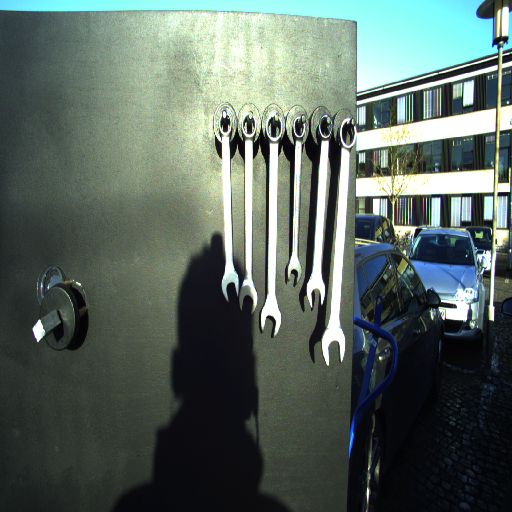bottom: (319, 327, 346, 367), (259, 304, 283, 338), (238, 284, 257, 316), (220, 273, 240, 303), (306, 279, 326, 309), (285, 259, 302, 285)
top: (338, 116, 357, 151), (265, 113, 283, 145), (240, 113, 258, 142), (317, 114, 333, 144), (216, 113, 235, 138), (291, 115, 307, 144)
